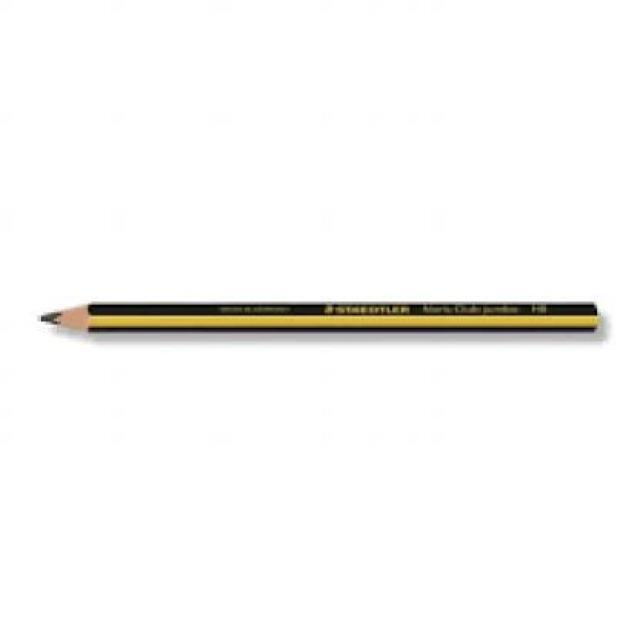pencil: (27, 282, 116, 348)
